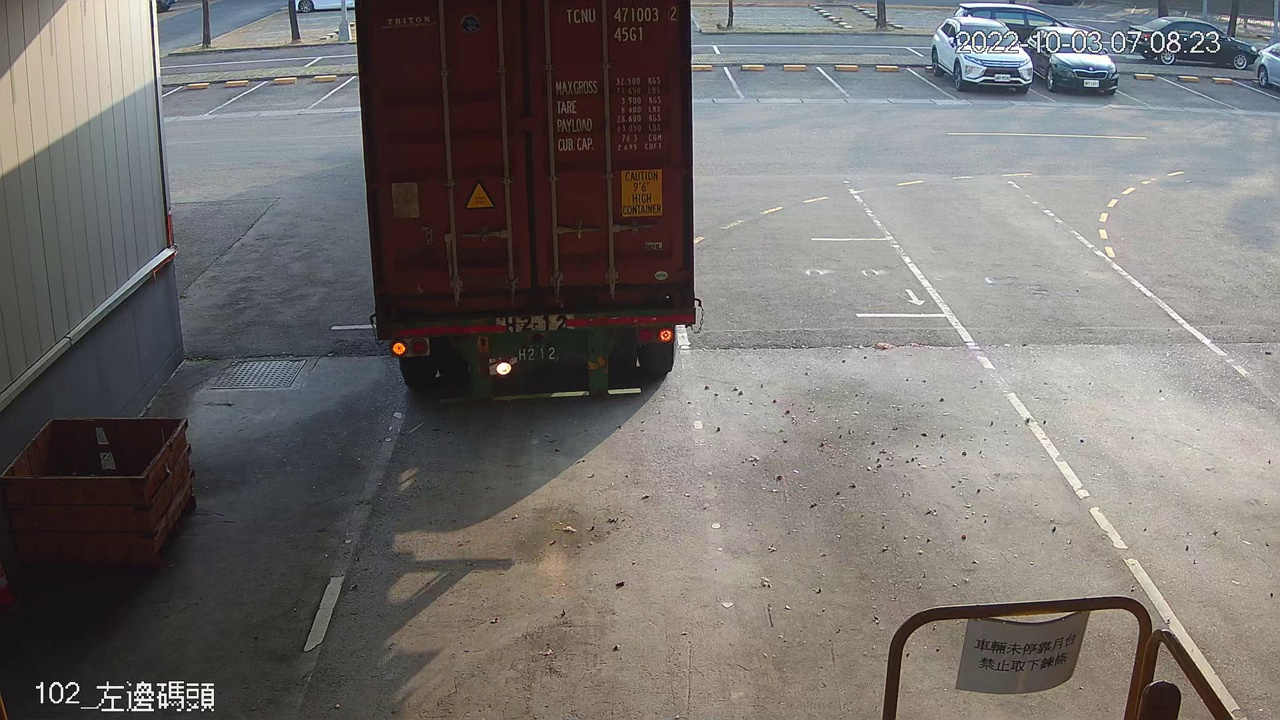container: (562, 3, 681, 45)
